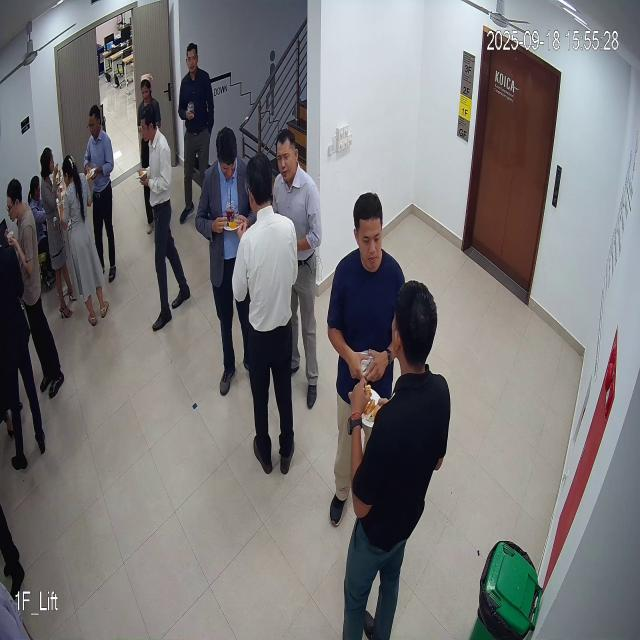face: (352, 190, 383, 283), (272, 132, 298, 186)
